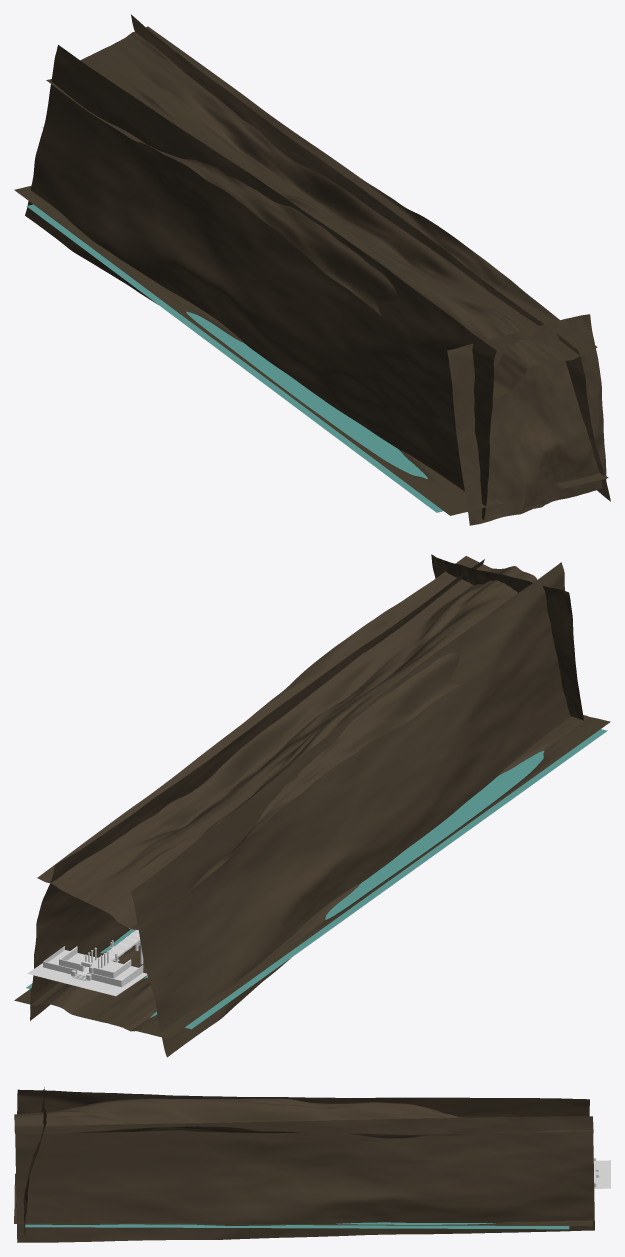
The model's file is actualEscena.fbx.
The picture shows the model from 3 angles, top to bottom: view 1: azimuth 30°, elevation 25°; view 2: azimuth 150°, elevation 25°; view 3: azimuth 270°, elevation 25°; orthographic projection. The views are drawn at different scales.
Visible parts, largest first — view 1: Landscape.007, Landscape.001, Landscape.003, Landscape_water, Landscape.002, Landscape; view 2: Landscape.007, Landscape.001, Landscape.002, Landscape, Landscape_water, Landscape.003, proBuild NHEL; view 3: Landscape.002, Landscape.001, Landscape.007, Landscape_water, Landscape, proBuild NHEL, Landscape.003.
Boxes of the visible parts, left/top/right/bottom form: Landscape.007: left=25, top=45, right=496, bottom=519; Landscape.001: left=46, top=26, right=597, bottom=398; Landscape.003: left=447, top=314, right=606, bottom=525; Landscape_water: left=26, top=204, right=606, bottom=512; Landscape.002: left=131, top=14, right=610, bottom=501; Landscape: left=14, top=186, right=608, bottom=515; Landscape.007: left=131, top=562, right=570, bottom=1057; Landscape.001: left=37, top=556, right=537, bottom=929; Landscape.002: left=30, top=559, right=484, bottom=1020; Landscape: left=14, top=715, right=610, bottom=1038; Landscape_water: left=26, top=729, right=607, bottom=1029; Landscape.003: left=431, top=554, right=583, bottom=720; proBuild NHEL: left=27, top=928, right=147, bottom=996; Landscape.002: left=15, top=1116, right=594, bottom=1242; Landscape.001: left=14, top=1098, right=593, bottom=1138; Landscape.007: left=15, top=1089, right=589, bottom=1184; Landscape_water: left=25, top=1222, right=569, bottom=1229; Landscape: left=14, top=1173, right=592, bottom=1226; proBuild NHEL: left=593, top=1158, right=610, bottom=1188; Landscape.003: left=16, top=1087, right=46, bottom=1235.
Size of the model in its own units: 18265 by 18286 by 82137.
